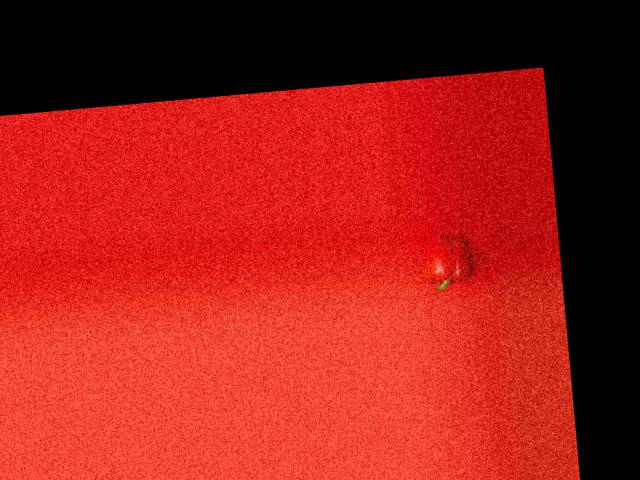bell_pepper: (420, 229, 477, 293)
